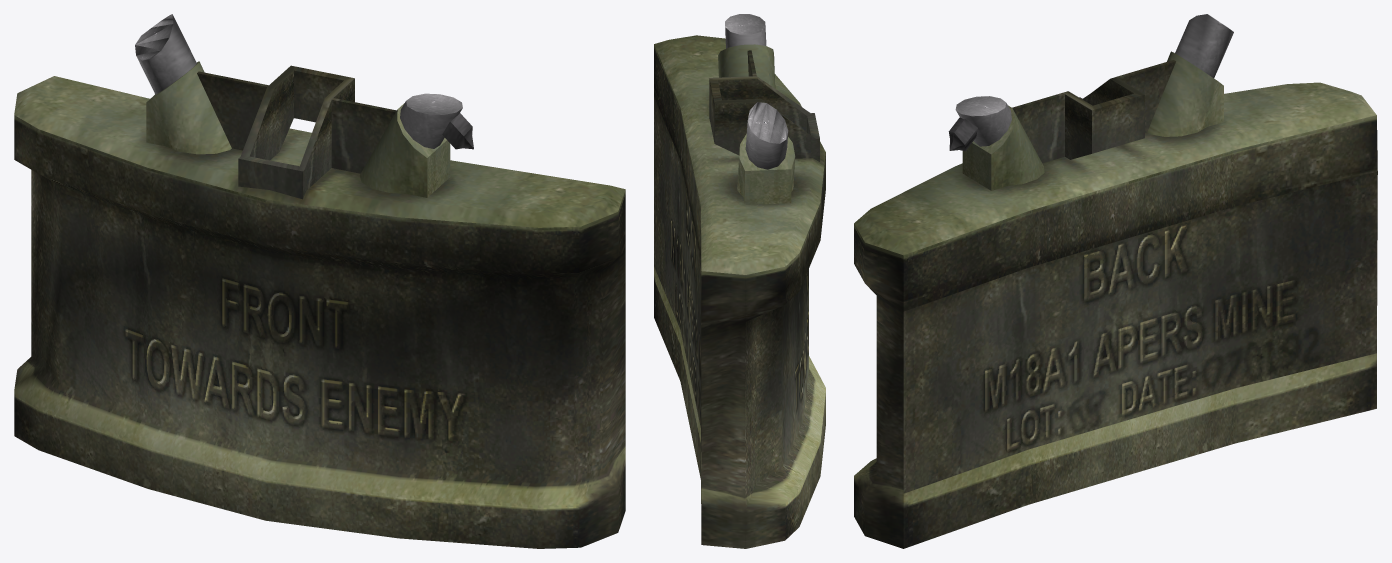
File: clym_3rd.glb
The picture shows the model from 3 angles, left to right: view 1: azimuth 30°, elevation 25°; view 2: azimuth 150°, elevation 25°; view 3: azimuth 270°, elevation 25°; orthographic projection. The views are drawn at different scales.
Visible parts, largest first — view 1: _clym_3rd; view 2: _clym_3rd; view 3: _clym_3rd.
Boxes of the visible parts, x1,y1,x2,y2 form: _clym_3rd: (14,14,625,548); _clym_3rd: (654,14,825,548); _clym_3rd: (854,14,1377,548).
Bounding box in the file's own units: 0.1307 × 0.1452 × 0.1694.
1 material, 1 textured.
